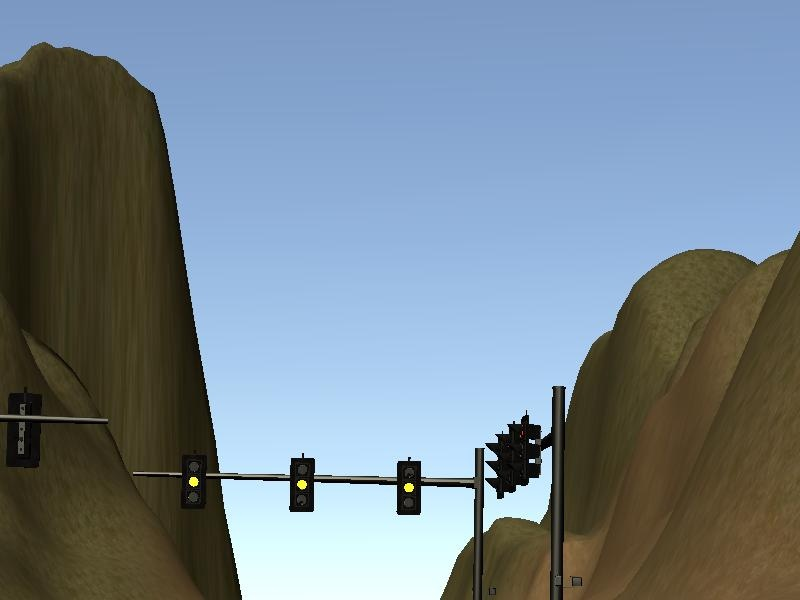yellow: (284, 448, 319, 515), (392, 452, 424, 520), (177, 449, 212, 509)
